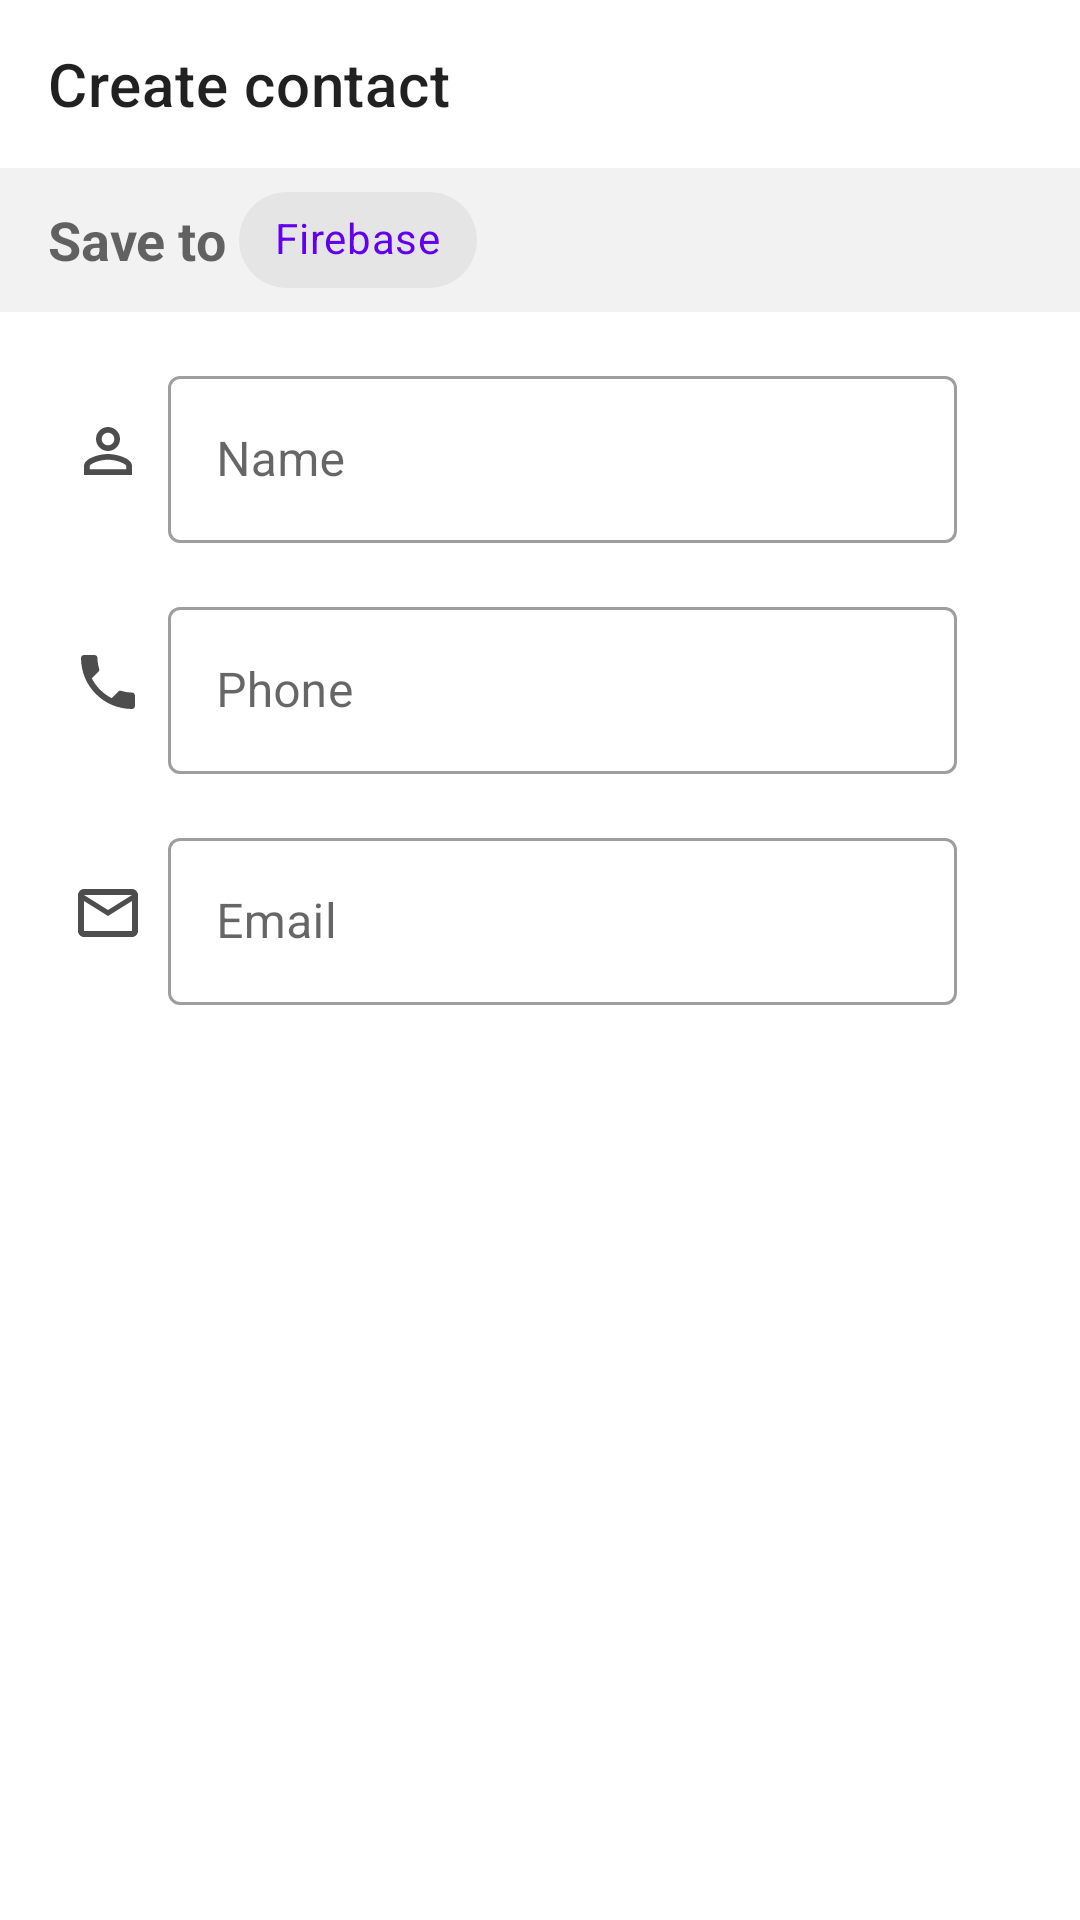

Where icons sit on this 1080x1920 app screen, as region(x1, y1, x2, y2):
person: region(84, 427, 132, 475)
